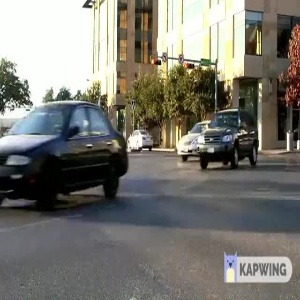car: (1, 100, 132, 203)
